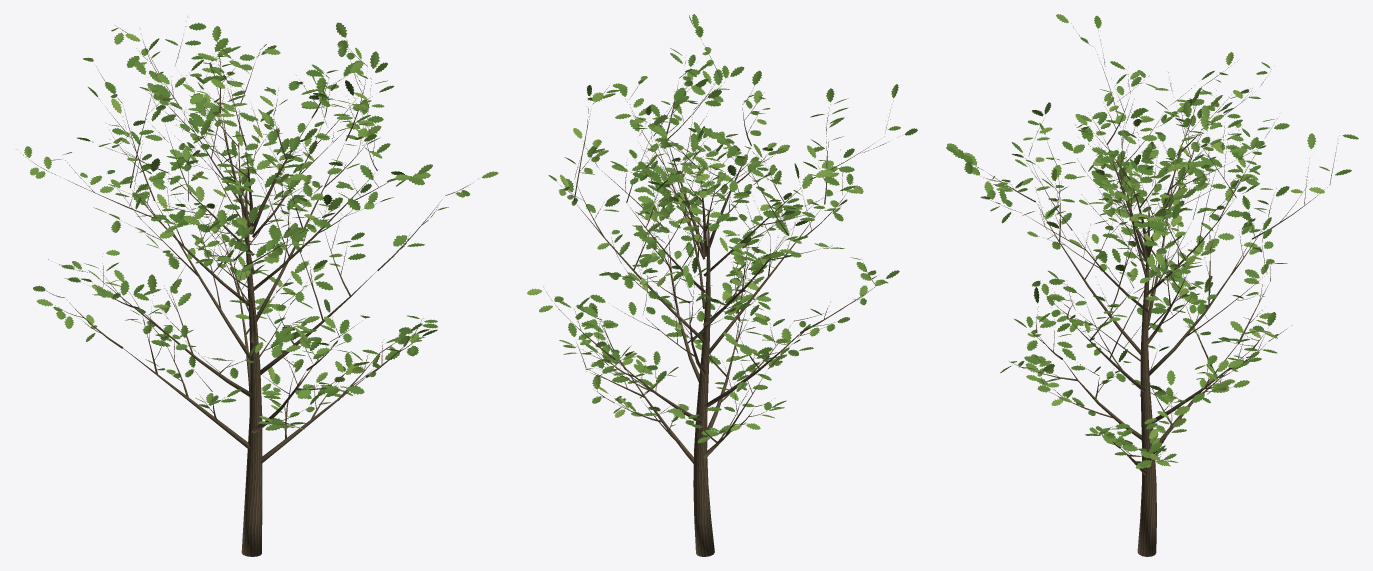
Rendered from Sessile_Oak_Young_01_Unpruned_LOD2.fbx.
The picture shows the model from 3 angles, left to right: view 1: azimuth 30°, elevation 25°; view 2: azimuth 150°, elevation 25°; view 3: azimuth 270°, elevation 25°; orthographic projection. The views are drawn at different scales.
Visible parts, largest first — view 1: Sessile_Oak_Young_01_Unpruned_LOD2; view 2: Sessile_Oak_Young_01_Unpruned_LOD2; view 3: Sessile_Oak_Young_01_Unpruned_LOD2.
Part boxes in pixels (x1=…): Sessile_Oak_Young_01_Unpruned_LOD2: x1=17, y1=16, x2=498, y2=556; Sessile_Oak_Young_01_Unpruned_LOD2: x1=527, y1=14, x2=917, y2=556; Sessile_Oak_Young_01_Unpruned_LOD2: x1=946, y1=14, x2=1358, y2=556.
Bounding box in the file's own units: 632 × 799 × 620.
5 materials, 1 textured.
